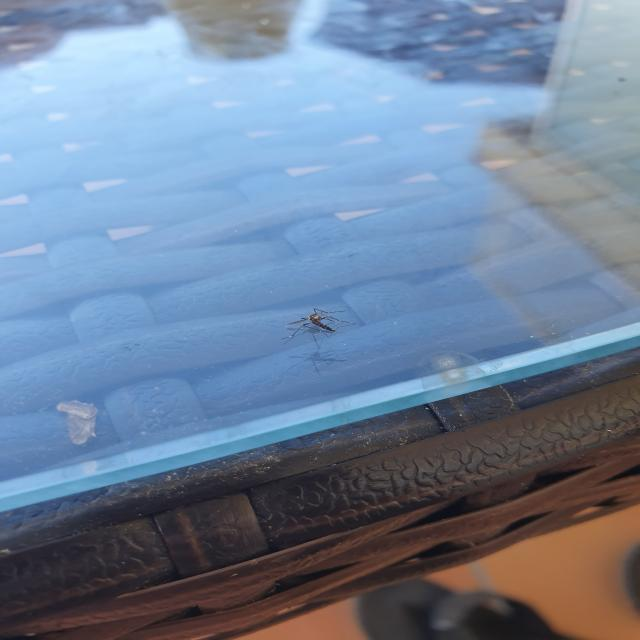albopictus: (283, 306, 357, 354)
